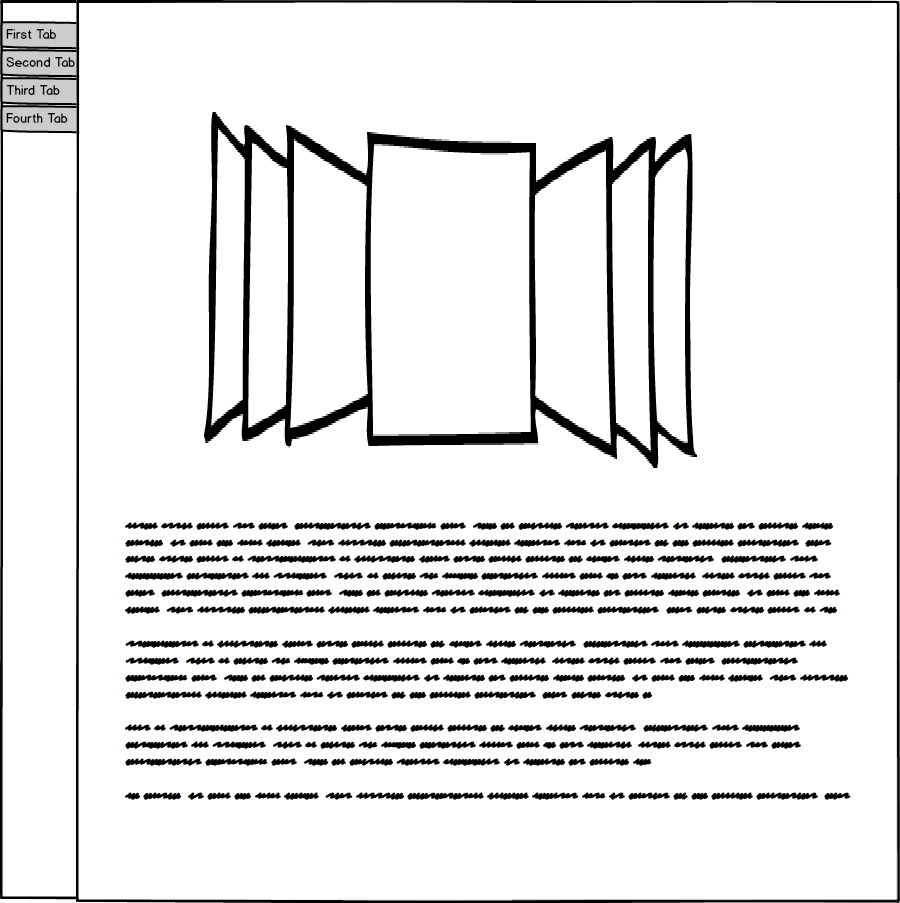p: (118, 512, 860, 823)
sidebar: (2, 13, 82, 142)
slideshow: (189, 108, 738, 484)
